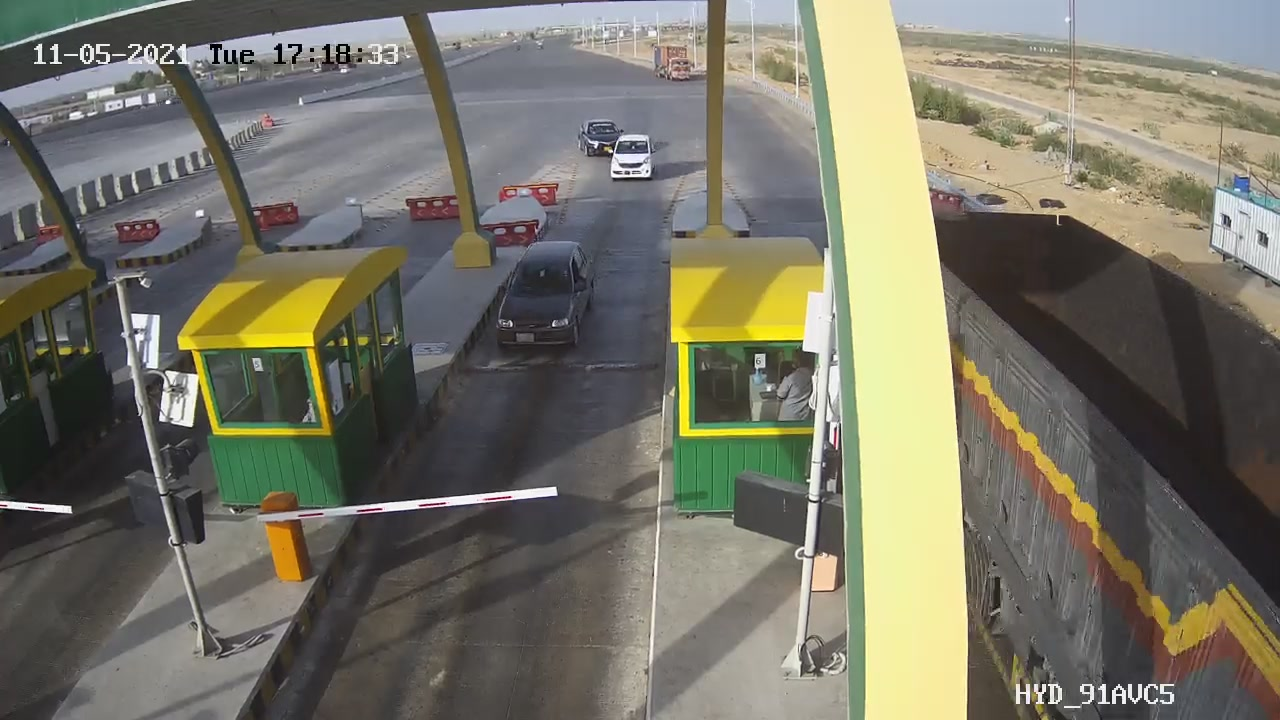F1: (482, 230, 607, 362)
